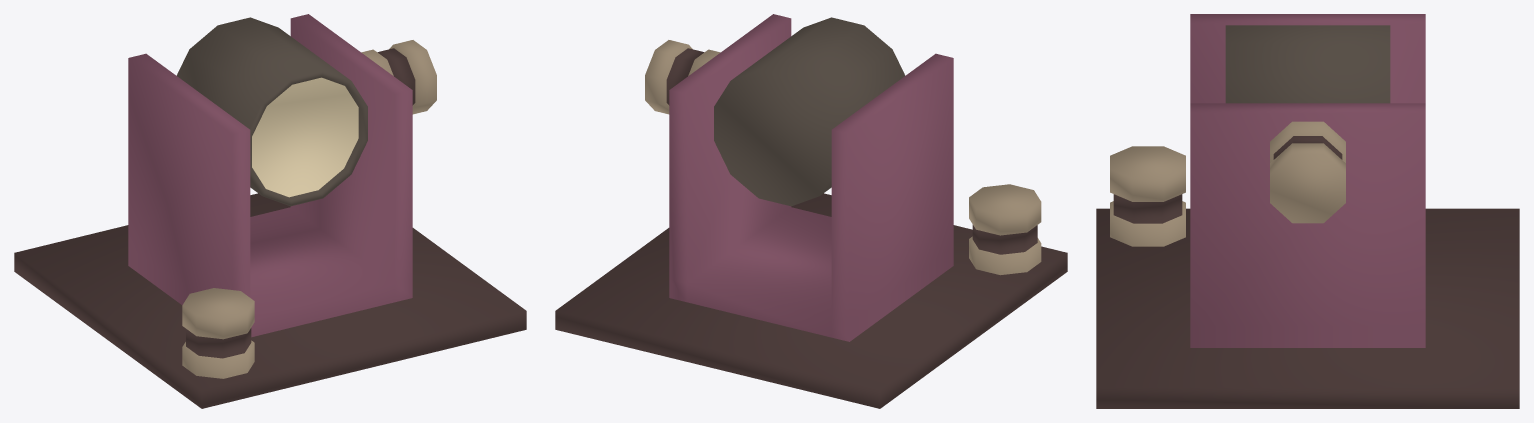
The model's file is sonar.glb.
3 views of the same model, side by side, from view 1: azimuth 30°, elevation 25°; view 2: azimuth 150°, elevation 25°; view 3: azimuth 270°, elevation 25° (orthographic). The views are drawn at different scales.
Visible parts, largest first — view 1: sonar; view 2: sonar; view 3: sonar.
Part boxes in pixels (left/top/right/bottom): sonar: left=14, top=14, right=526, bottom=408; sonar: left=555, top=14, right=1067, bottom=408; sonar: left=1096, top=14, right=1519, bottom=408.
Size of the model in its own units: 0.9 by 0.669 by 0.9.
Materials: 1 (1 with a texture image).
